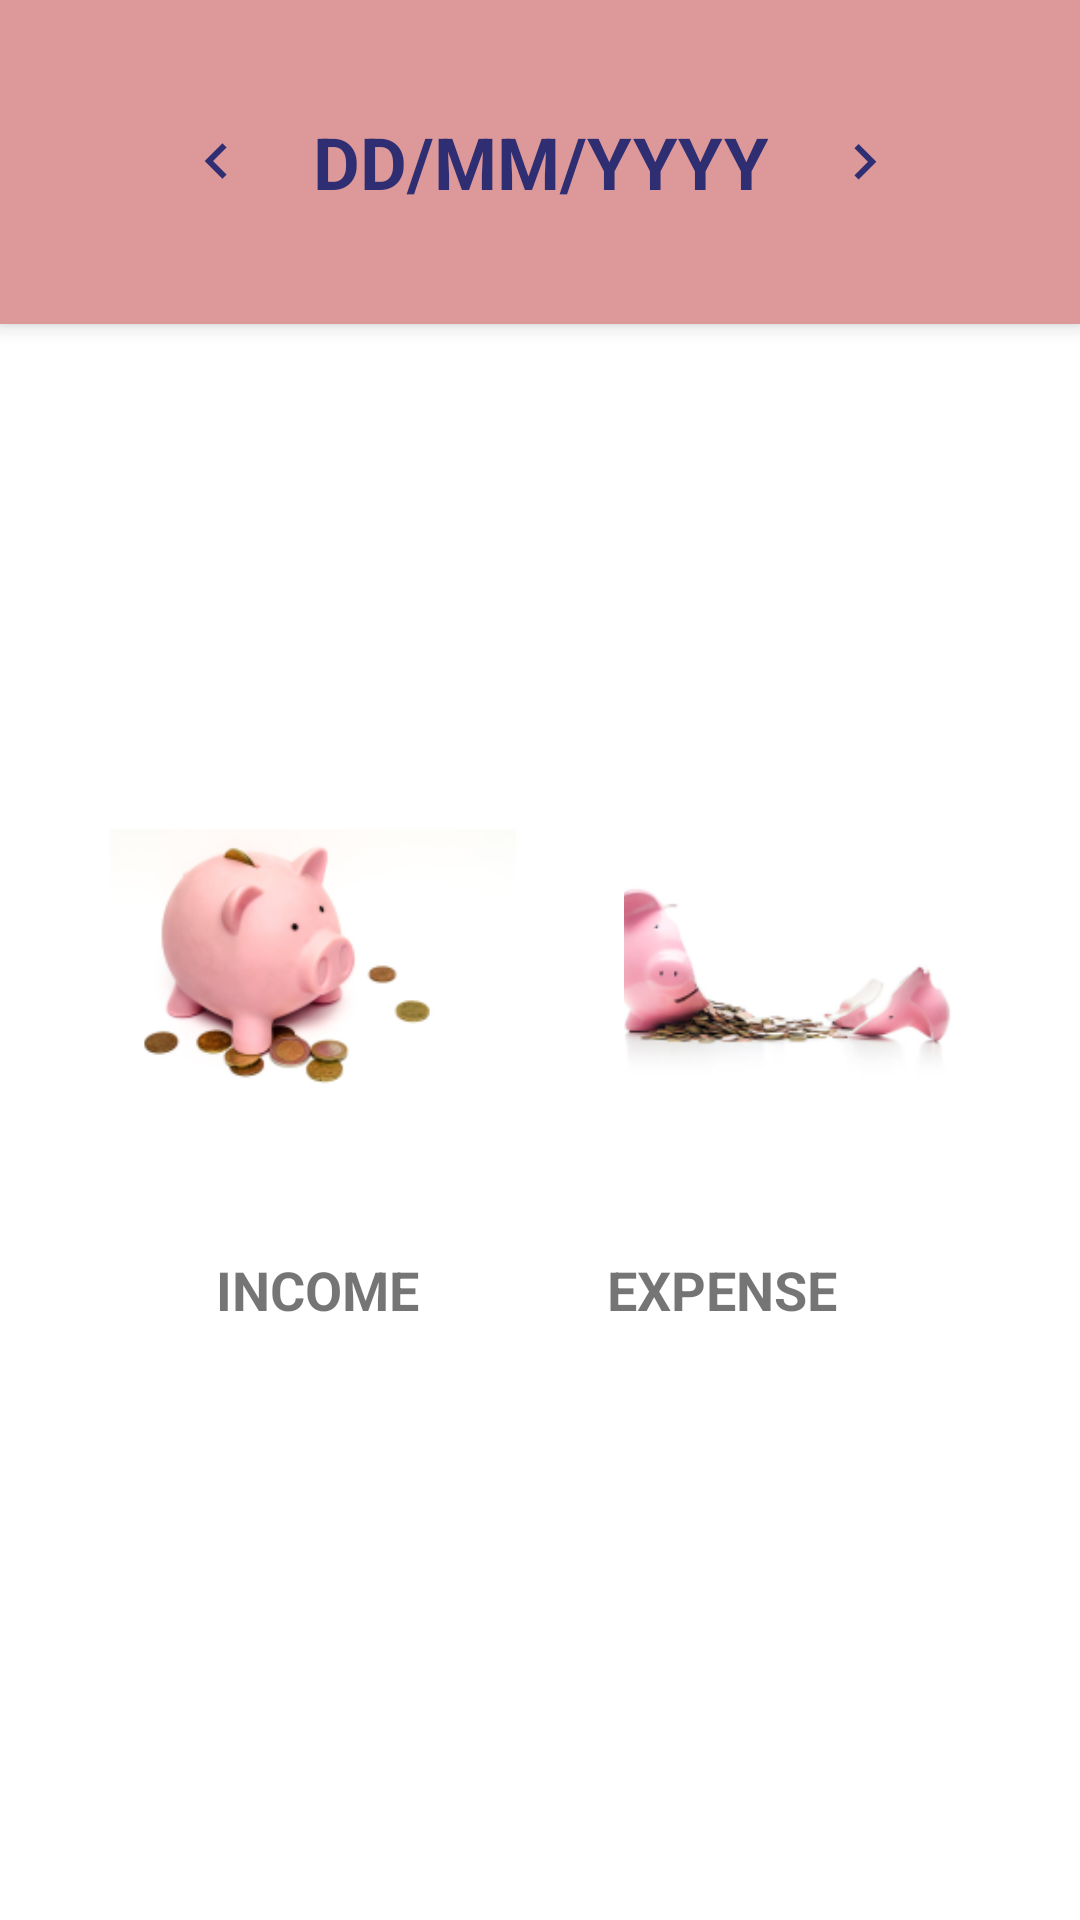

Icon click points for this 1080px×1920px phone screenshot, format (x,y):
next: (865,162)
previous: (216,161)
